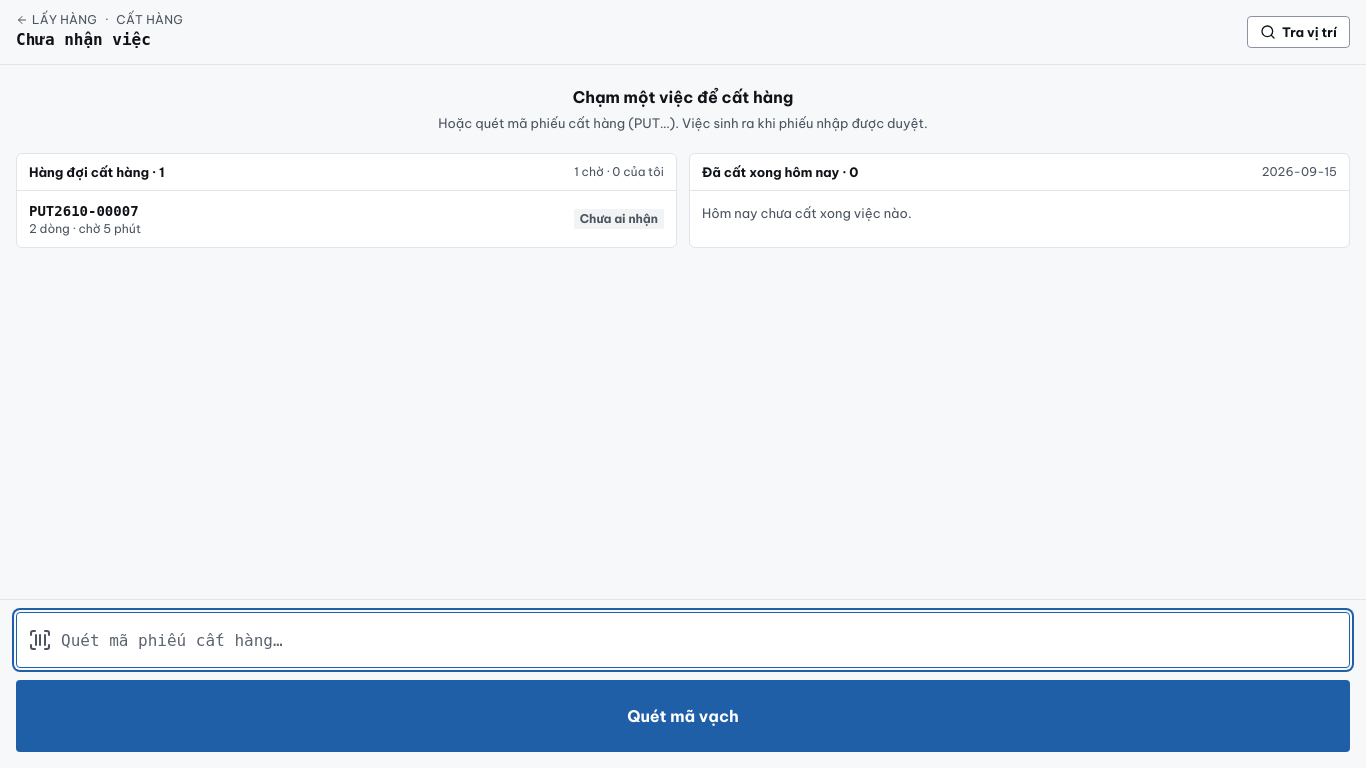
Màn cất hàng web (LOC-6) — giỏ thùng → quét vị trí → cất › quét 1 thùng + gõ số thùng → giỏ; quét vị trí → "Cất vào" gửi thùng vừa quét trước
Click the button with aria-label "Mở PUT2610-00007" at (84, 211), box [17, 191, 676, 247]
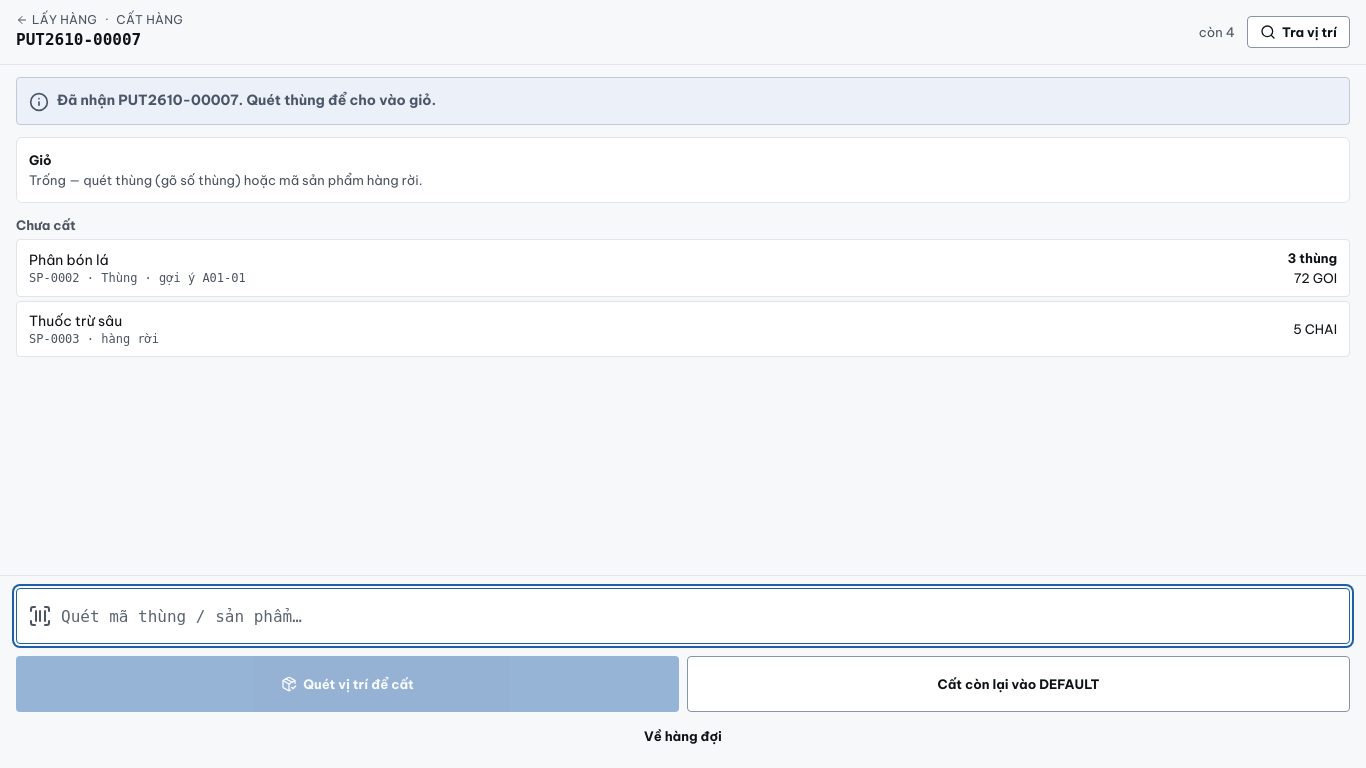
Check: the element "Chưa cất" is shown, box [16, 215, 1350, 357]
Type "THG-2" into the field labelled "Quét mã thùng / sản phẩm…" at (683, 616), box [16, 588, 1350, 644]
Press Enter in the field named "Quét", box [16, 588, 1350, 644]
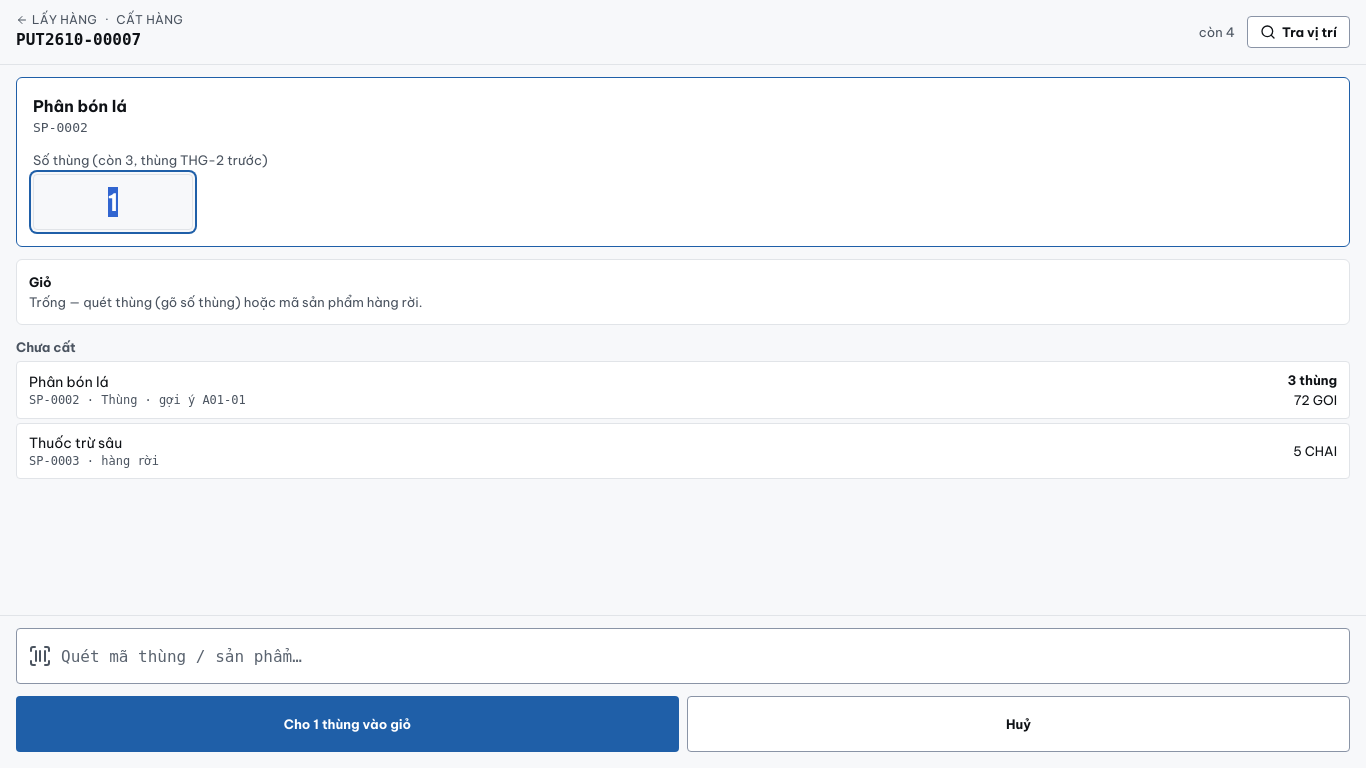
Check: the element named "Số lượng cho vào giỏ" shows "còn 3, thùng THG-2 trước", box [33, 152, 268, 168]
Replace the text in the field labelled "Số thùng" with "2" at (113, 202), box [33, 174, 193, 230]
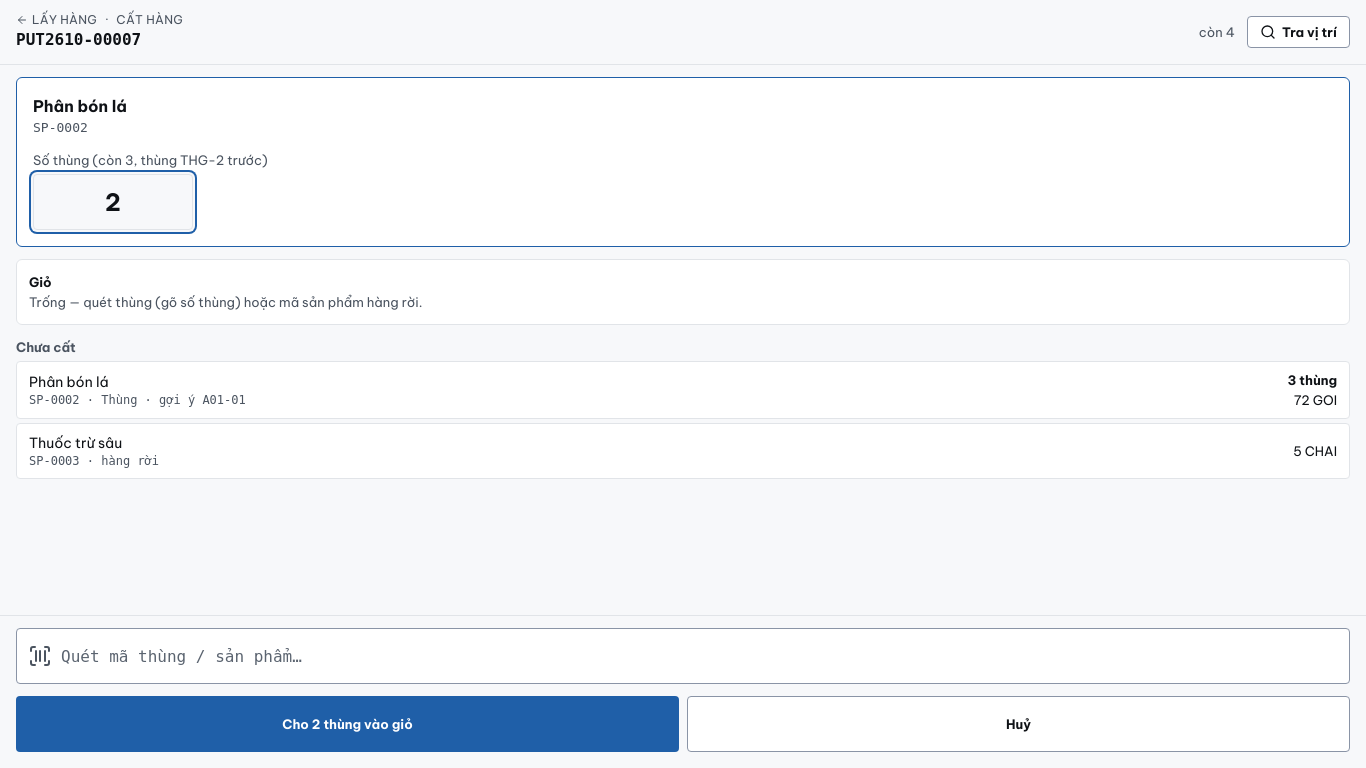
Press Enter in the field labelled "Số thùng", box [33, 174, 193, 230]
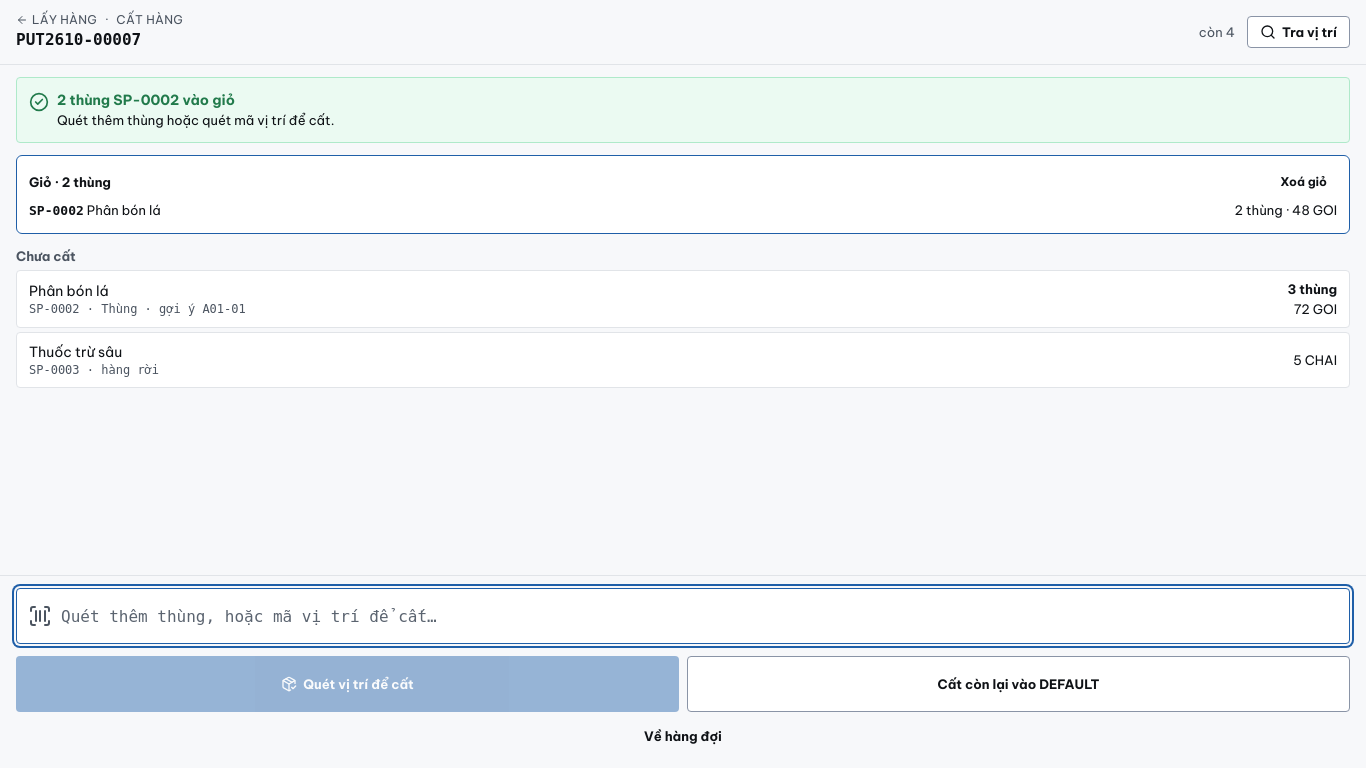
Check: the element "Giỏ" shows "2 thùng", box [52, 174, 111, 190]
Type "LOC-A01-05" into the field labelled "Quét thêm thùng, hoặc mã vị trí để cất…" at (683, 616), box [16, 588, 1350, 644]
Press Enter in the field named "Quét", box [16, 588, 1350, 644]
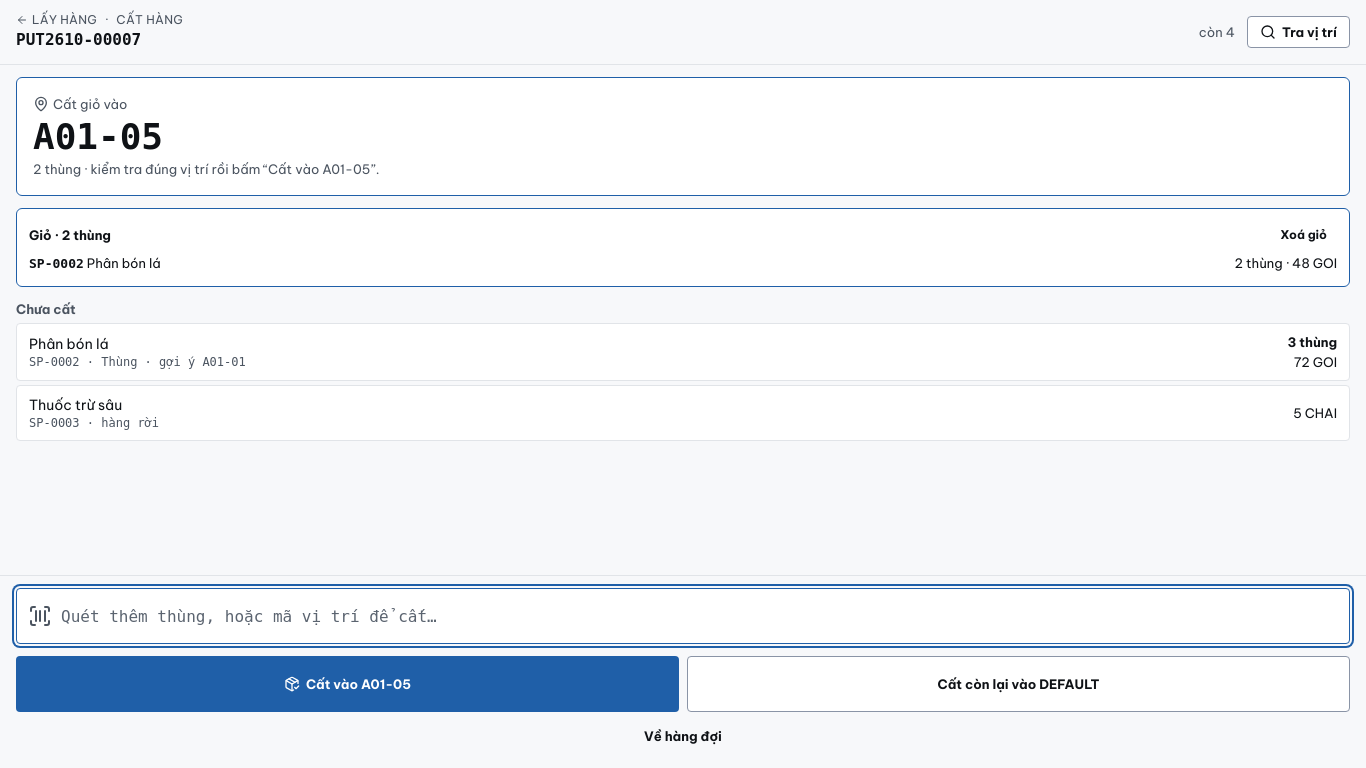
Check: the element named "Vị trí cất" shows "A01-05", box [33, 116, 163, 157]
Click the button "Cất vào A01-05" at (348, 684), box [16, 656, 679, 712]
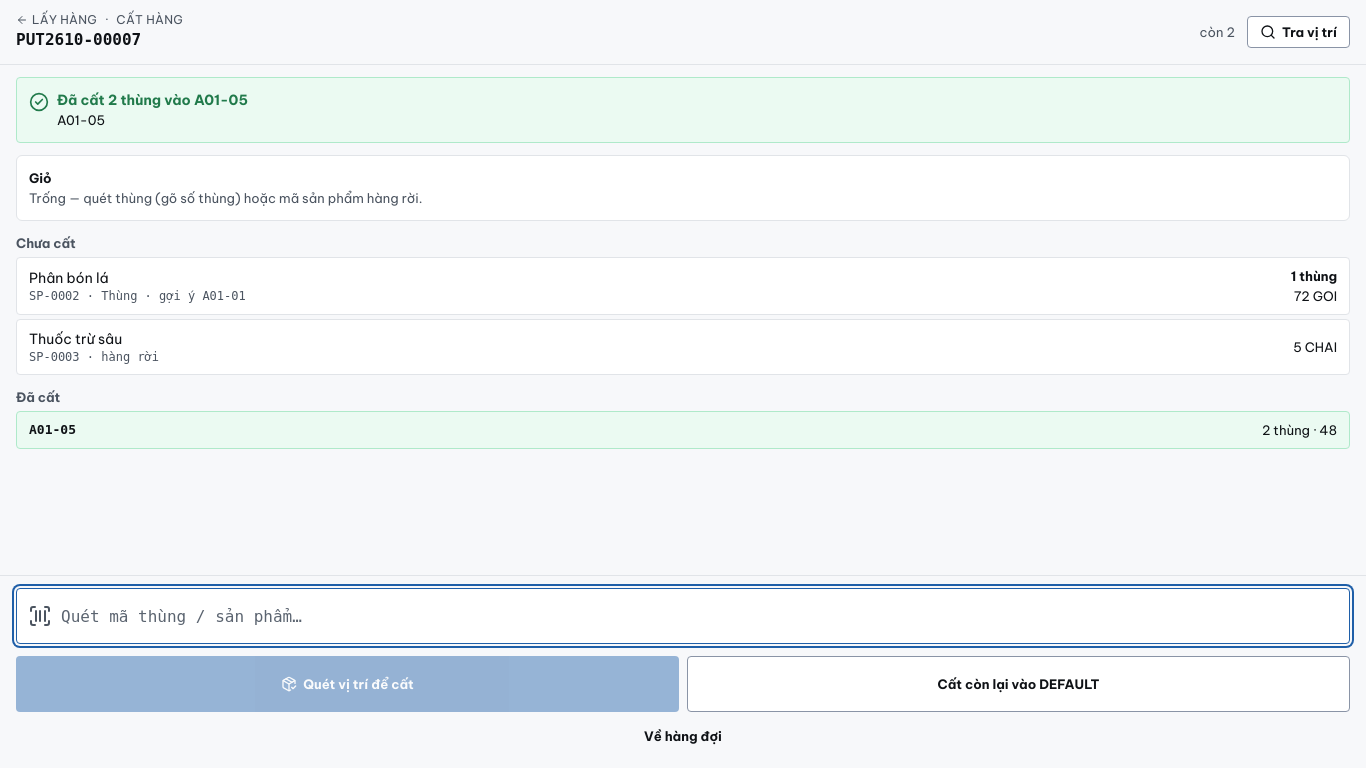
Check: the text "Đã cất 2 thùng vào A01-05" is shown, box [57, 90, 248, 110]
Check: the element "Đã cất" shows "A01-05", box [29, 420, 76, 440]
Check: the element "Giỏ" shows "Trống", box [29, 190, 422, 206]
